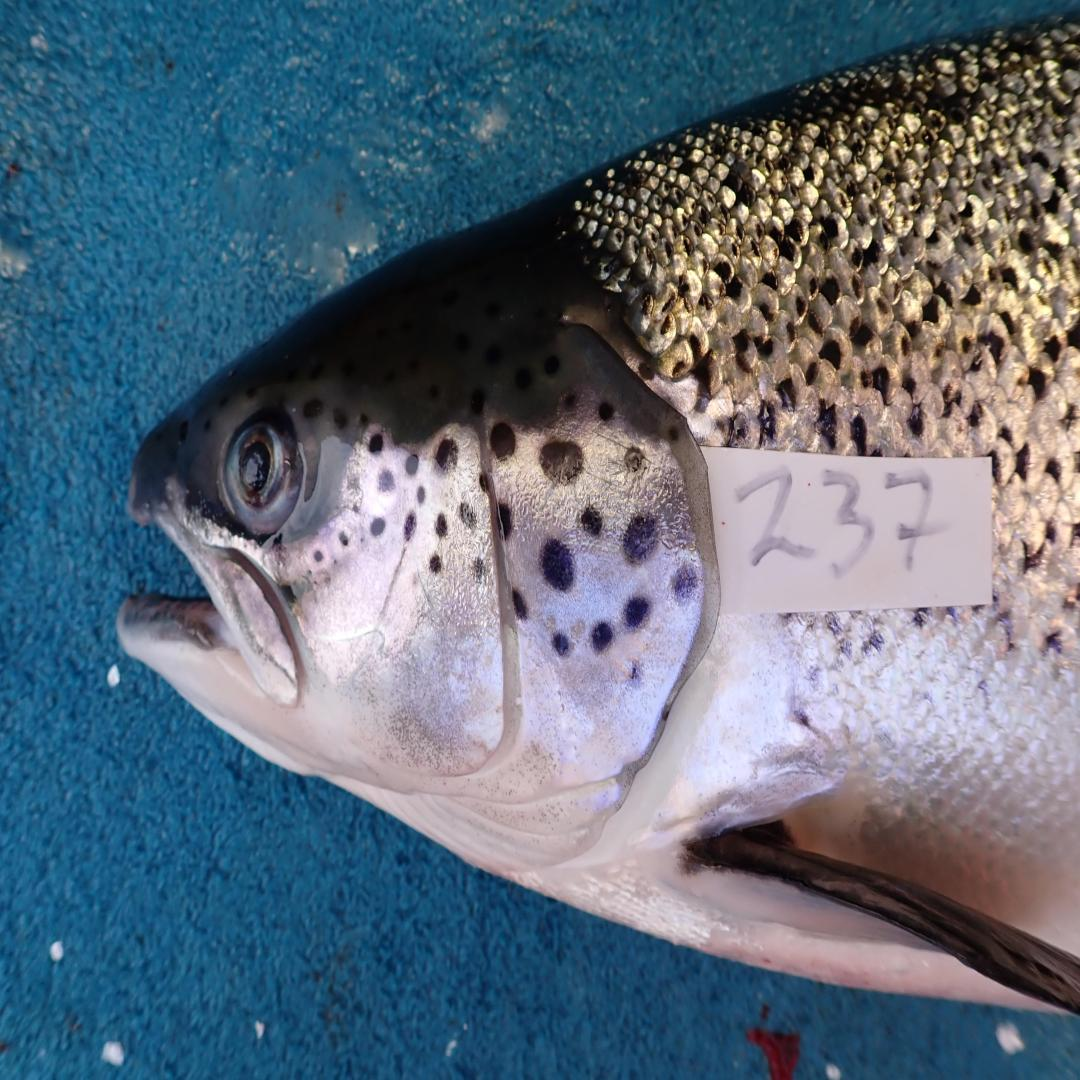spot: (540, 439, 584, 484), (540, 540, 574, 591), (622, 515, 656, 560), (489, 422, 515, 458), (673, 565, 698, 599), (624, 596, 650, 627), (591, 622, 614, 652), (437, 439, 458, 470), (580, 506, 601, 534), (624, 447, 645, 472), (498, 503, 513, 537), (479, 467, 496, 495), (460, 503, 477, 529), (472, 556, 487, 583), (513, 591, 527, 619), (378, 469, 395, 492), (553, 633, 570, 655), (403, 512, 416, 540), (369, 518, 386, 537), (428, 554, 443, 574), (629, 661, 641, 686), (599, 402, 614, 422), (405, 456, 420, 475), (369, 433, 383, 453), (435, 515, 447, 537), (561, 393, 577, 407), (416, 487, 426, 503), (312, 548, 323, 562), (339, 531, 349, 546), (669, 426, 679, 440), (353, 504, 359, 512)
